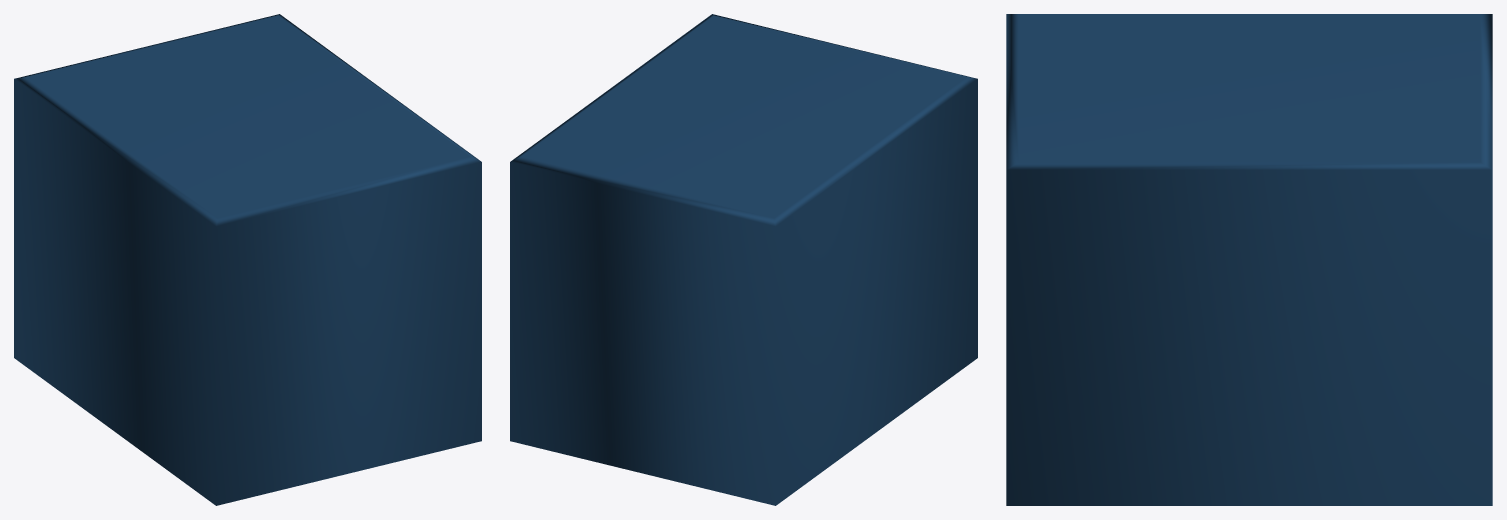
File: B_Stone_04.fbx
3 renders of one model, left to right at view 1: azimuth 30°, elevation 25°; view 2: azimuth 150°, elevation 25°; view 3: azimuth 270°, elevation 25°, orthographic. The views are drawn at different scales.
Parts seen in each view (by area): view 1: B_Stone_04; view 2: B_Stone_04; view 3: B_Stone_04.
Boxes of the visible parts, left/top/right/bottom form: B_Stone_04: left=14, top=14, right=481, bottom=505; B_Stone_04: left=510, top=14, right=977, bottom=505; B_Stone_04: left=1006, top=14, right=1492, bottom=505.
Bounding box in the file's own units: 95.38 × 98.04 × 126.
